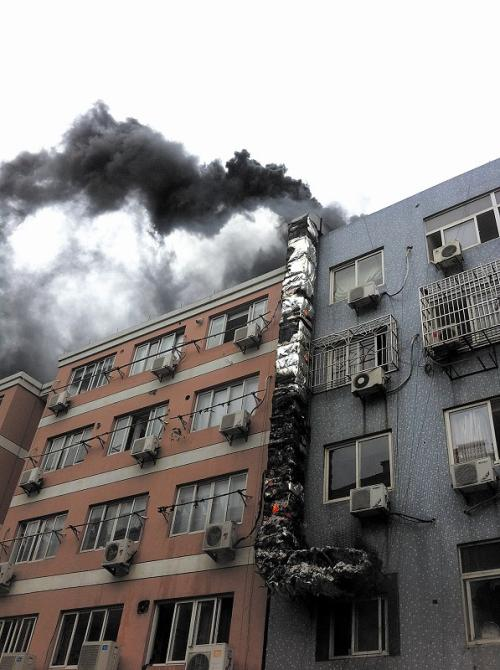smoke: (1, 101, 330, 243)
